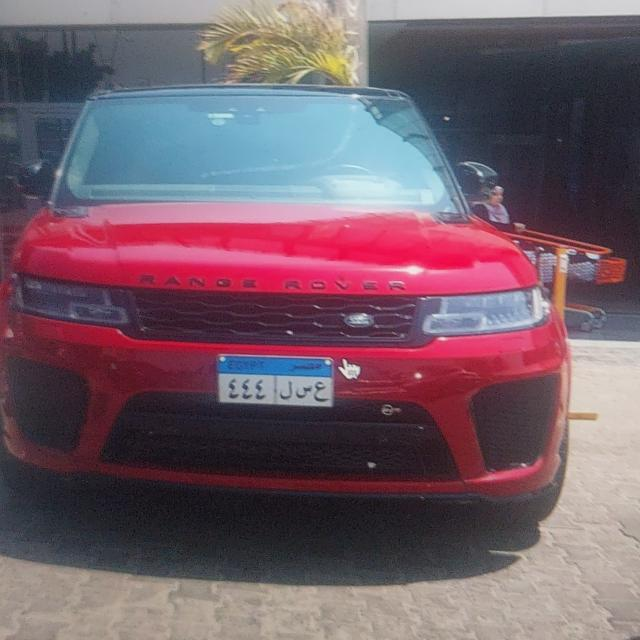car-plate: (222, 359, 330, 406)
